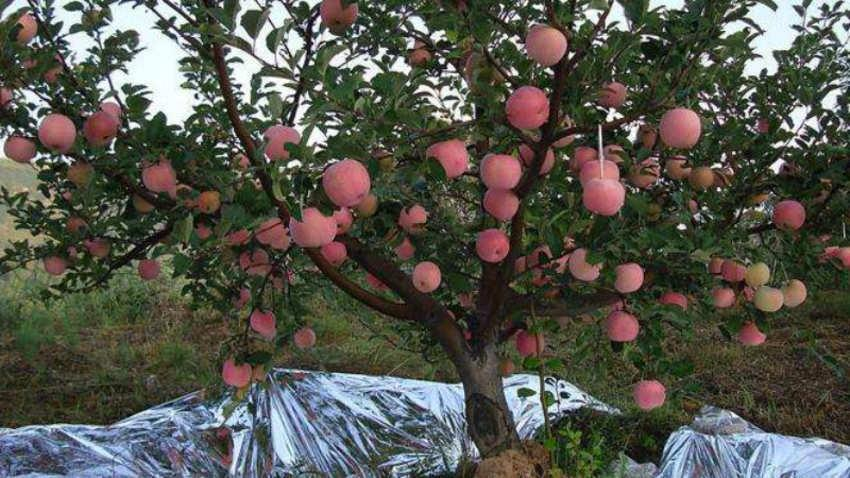apple: (290, 204, 338, 250), (323, 160, 371, 206), (504, 84, 549, 130), (525, 25, 568, 68), (35, 113, 76, 154), (427, 139, 471, 177), (660, 107, 700, 148), (582, 179, 625, 217), (83, 105, 122, 146), (479, 153, 522, 189), (321, 1, 358, 37), (482, 187, 518, 223), (632, 377, 666, 411), (476, 230, 511, 263), (579, 160, 620, 185), (411, 262, 443, 292), (220, 359, 252, 389), (608, 310, 638, 342), (612, 261, 642, 293), (774, 201, 805, 231)
